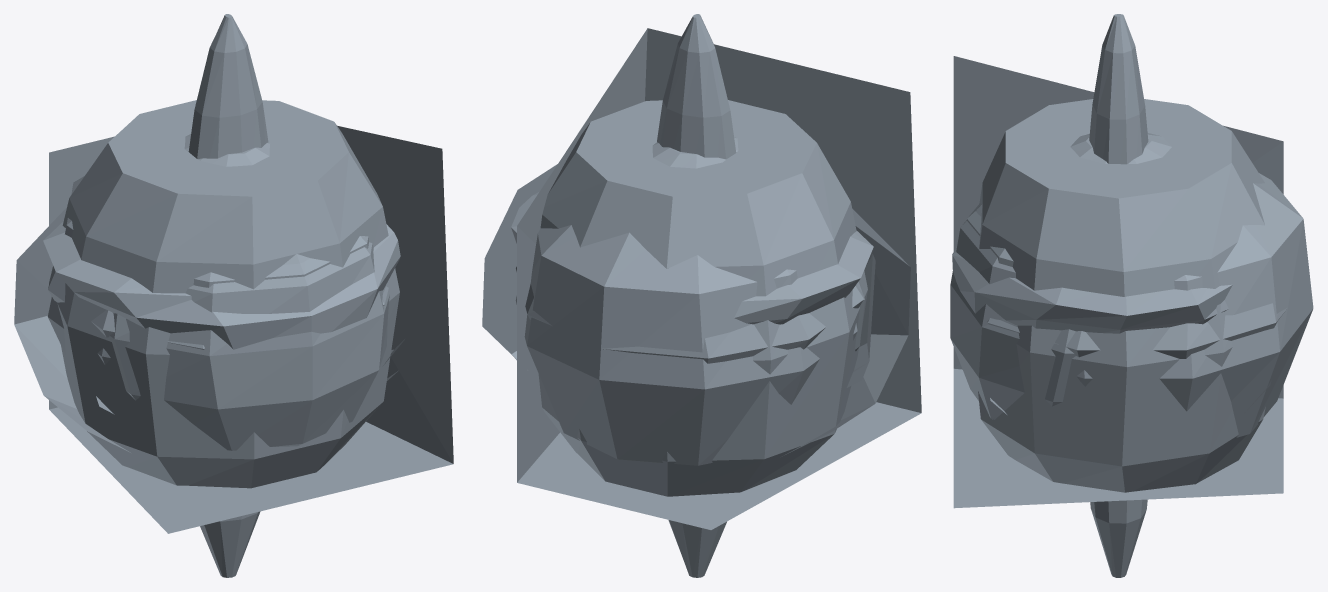
Rendered from rowplay-rigs-v1.glb.
The picture shows the model from 3 angles, left to right: view 1: azimuth 30°, elevation 25°; view 2: azimuth 150°, elevation 25°; view 3: azimuth 270°, elevation 25°; orthographic projection.
Parts seen in each view (by area): view 1: athlete:pelvis, athlete:hand, athlete:head, athlete:torso, equipment:row:hull, athlete:shoulder, athlete:hair, athlete:helmet; view 2: athlete:pelvis, athlete:hair, athlete:hand, athlete:shoulder, equipment:row:hull, athlete:torso, athlete:helmet, athlete:thigh; view 3: athlete:pelvis, athlete:hand, athlete:hair, athlete:torso, equipment:row:hull, athlete:head, athlete:helmet.
Part boxes in pixels (box(x1,y1,x2,y2)): athlete:pelvis: box(49, 100, 399, 488); athlete:hand: box(49, 125, 453, 533); athlete:head: box(109, 154, 389, 450); athlete:torso: box(43, 221, 400, 349); equipment:row:hull: box(188, 14, 268, 577); athlete:shoulder: box(14, 207, 398, 452); athlete:hair: box(47, 134, 368, 364); athlete:helmet: box(48, 268, 388, 349); athlete:pelvis: box(538, 100, 867, 496); athlete:hair: box(515, 136, 857, 465); athlete:hand: box(517, 28, 921, 529); athlete:shoulder: box(482, 164, 910, 456); equipment:row:hull: box(657, 14, 736, 577); athlete:torso: box(511, 192, 873, 324); athlete:helmet: box(516, 266, 863, 363); athlete:thigh: box(847, 254, 875, 387); athlete:pelvis: box(978, 99, 1265, 492); athlete:hand: box(953, 56, 1283, 508); athlete:hair: box(967, 133, 1313, 437); athlete:torso: box(952, 247, 1232, 333); equipment:row:hull: box(1089, 14, 1148, 577); athlete:head: box(950, 149, 1133, 419); athlete:helmet: box(987, 303, 1287, 358).
Size of the model in its own units: 2.36 by 3.74 by 2.2.
